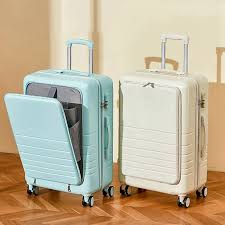suitcase: (3, 38, 116, 207), (115, 29, 211, 208)
